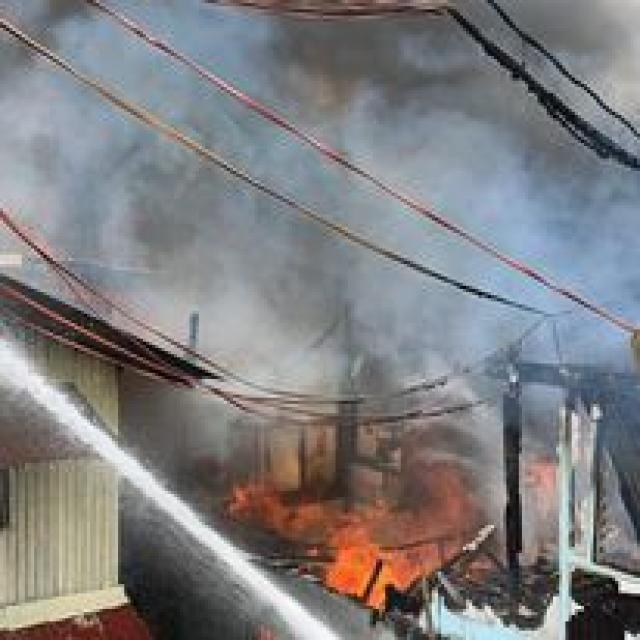Fire: (223, 478, 454, 611)
